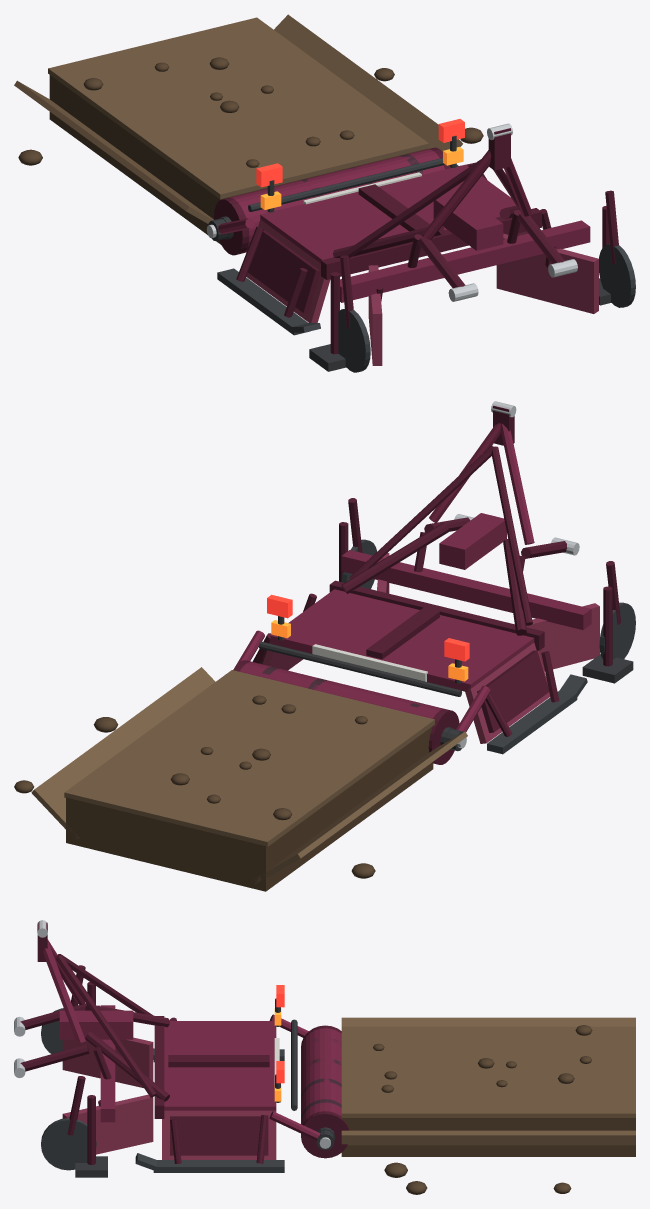
Rendered from bed_former.glb.
3 renders of one model, top to bottom at view 1: azimuth 30°, elevation 25°; view 2: azimuth 150°, elevation 25°; view 3: azimuth 270°, elevation 25°, orthographic. The views are drawn at different scales.
Parts seen in each view (by area): view 1: BedProps, BedBody, BedRoller; view 2: BedProps, BedBody, BedRoller; view 3: BedProps, BedBody, BedRoller.
Part boxes in pixels (x1=…): BedProps: x1=14, y1=14, x2=483, y2=244; BedBody: x1=208, y1=119, x2=635, y2=372; BedRoller: x1=206, y1=147, x2=458, y2=255; BedProps: x1=14, y1=667, x2=467, y2=891; BedBody: x1=235, y1=401, x2=635, y2=754; BedRoller: x1=233, y1=660, x2=466, y2=764; BedProps: x1=341, y1=1017, x2=635, y2=1194; BedBody: x1=14, y1=920, x2=334, y2=1177; BedRoller: x1=301, y1=1025, x2=349, y2=1158.
Bounding box in the file's own units: 2.26 × 1.28 × 3.81.
